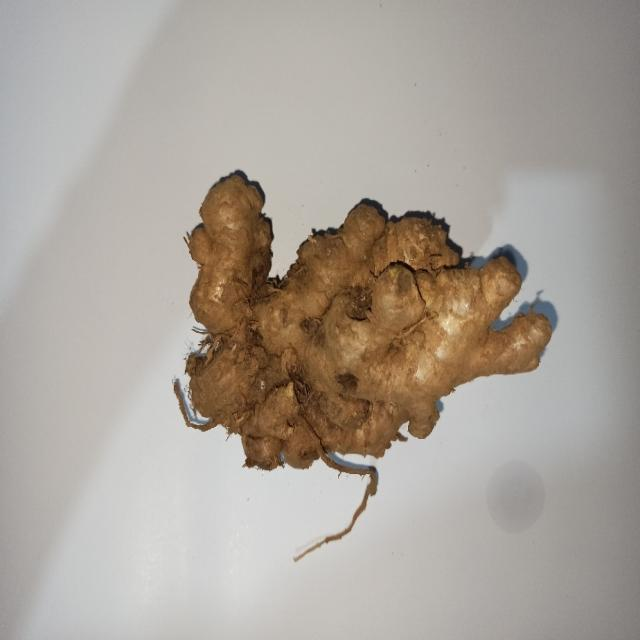ginger: (185, 174, 554, 470)
